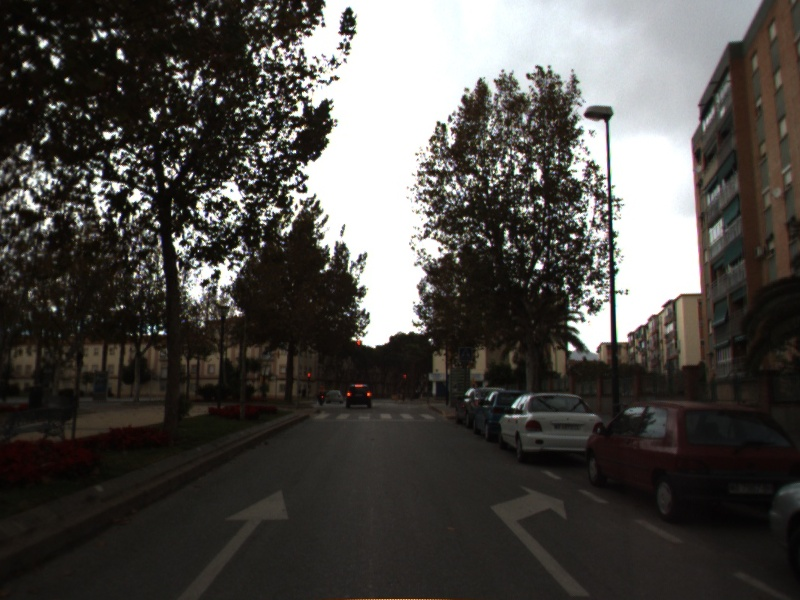RIGHT: (488, 481, 594, 599)
STRAIGHT: (176, 485, 292, 600)
